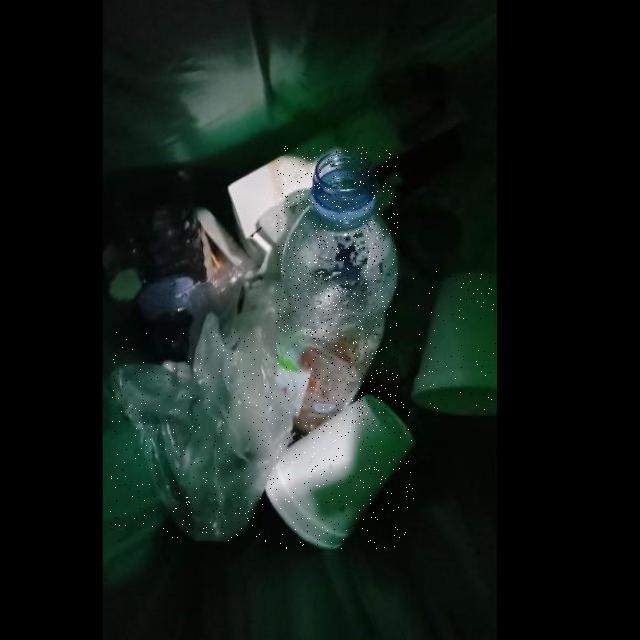plastic: (110, 332, 309, 541), (276, 146, 398, 433)
styrofoam: (263, 391, 415, 548), (411, 271, 496, 415)
